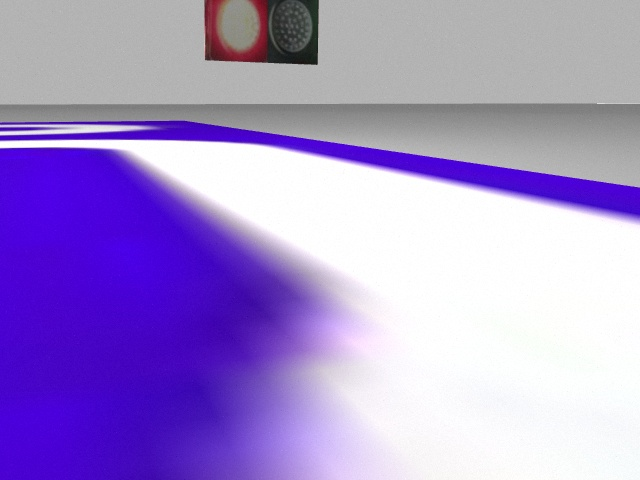red: (203, 1, 269, 62)
